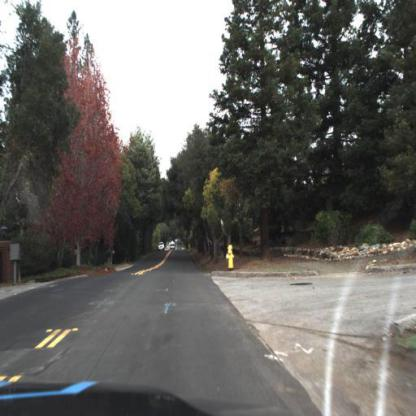car: (168, 238, 179, 254), (157, 241, 167, 257)
